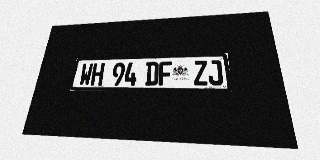4: (124, 62, 138, 86)
9: (111, 62, 125, 86)
D: (145, 62, 159, 86)
F: (158, 61, 172, 85)
H: (90, 63, 105, 86)
J: (207, 60, 223, 85)
W: (78, 63, 93, 86)
Z: (193, 60, 208, 85)
